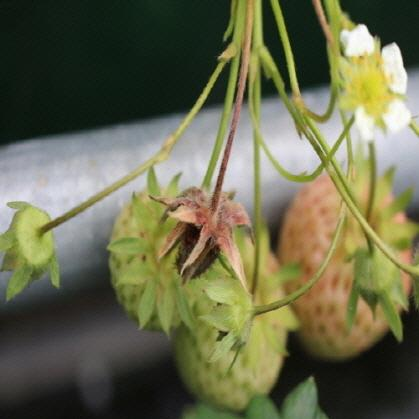Gray Mold: (147, 163, 253, 293)
